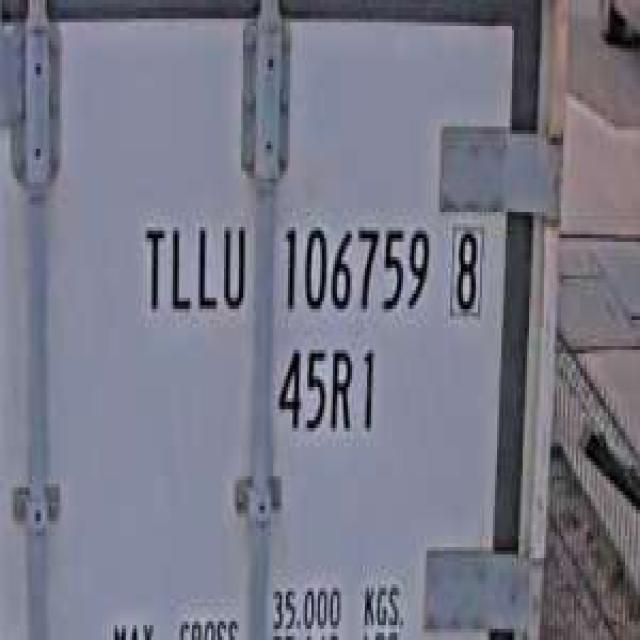dv: (444, 212, 488, 324)
owner: (136, 205, 250, 328)
serial: (275, 204, 433, 324)
size: (269, 335, 382, 446)
